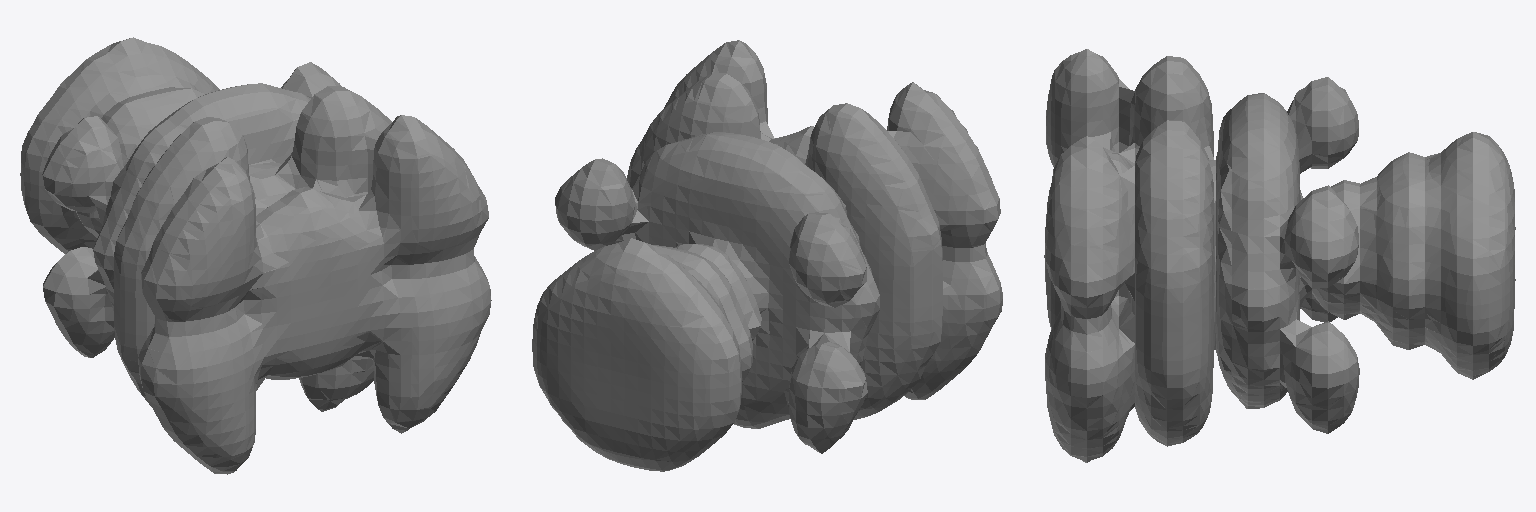
robot.urdf — cube.urdf:
<?xml version="0.0" ?> 
<robot name="cube.urdf"> 
<link name="legobrick"> 
<contact> 
<lateral_friction value="5.0"/> 
<rolling_friction value="0.0"/> 
<contact_cfm value="0.0"/> 
<contact_erp value="1.0"/> 
</contact> 
<inertial> 
<origin rpy="0 0 0" xyz="0.0 0.0 0.0"/> 
<mass value=".01"/> 
<inertia ixx="1" ixy="0" ixz="0" iyy="1" iyz="0" izz="1"/> 
</inertial> 
<visual> 
<origin rpy="1.570796 0 0" xyz="-0.03497377531224186 0.03822796584714943 -0.03528908193267773"/> 
<geometry> 
<mesh filename="W22_1.obj" scale="0.0006388271722299034 0.0006388271722299034 0.0006388271722299034"/> 
</geometry> 
<material name="yellow"> 
<color rgba="0.6 0.6 0.6 1"/> 
</material> 
</visual> 
<collision> 
<origin rpy="1.570796 0 0" xyz="-0.03497377531224186 0.03822796584714943 -0.03528908193267773"/> 
<geometry> 
<mesh filename="W22_1.obj" scale="0.0006388271722299034 0.0006388271722299034 0.0006388271722299034"/> 
</geometry> 
</collision> 
</link> 
</robot>

--- Render facts (derived) ---
3 views of the same robot in one strip: view 1: azimuth 30°, elevation 25°; view 2: azimuth 150°, elevation 25°; view 3: azimuth 270°, elevation 25° (orthographic).
Model cube.urdf with 1 links and 0 joints (none), rooted at legobrick, posed all joints at 0.
Links seen in each view (by area): view 1: legobrick; view 2: legobrick; view 3: legobrick.
Boxes of the visible links, x1=… form: legobrick: x1=20, y1=37, x2=491, y2=474; legobrick: x1=532, y1=40, x2=1002, y2=471; legobrick: x1=1044, y1=49, x2=1515, y2=462.
Size in the robot's own frame: 0.056 by 0.0639 by 0.0494 metres.
Meshes: 1 distinct files referenced, 1 mesh visuals loaded (1 OBJ).
